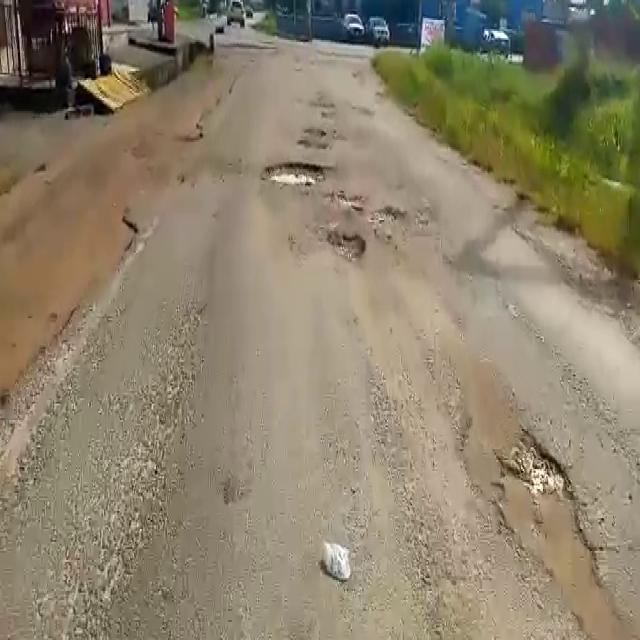Pothole: (499, 431, 598, 580), (262, 161, 328, 189), (370, 203, 407, 242), (319, 226, 367, 256), (324, 192, 367, 218)
